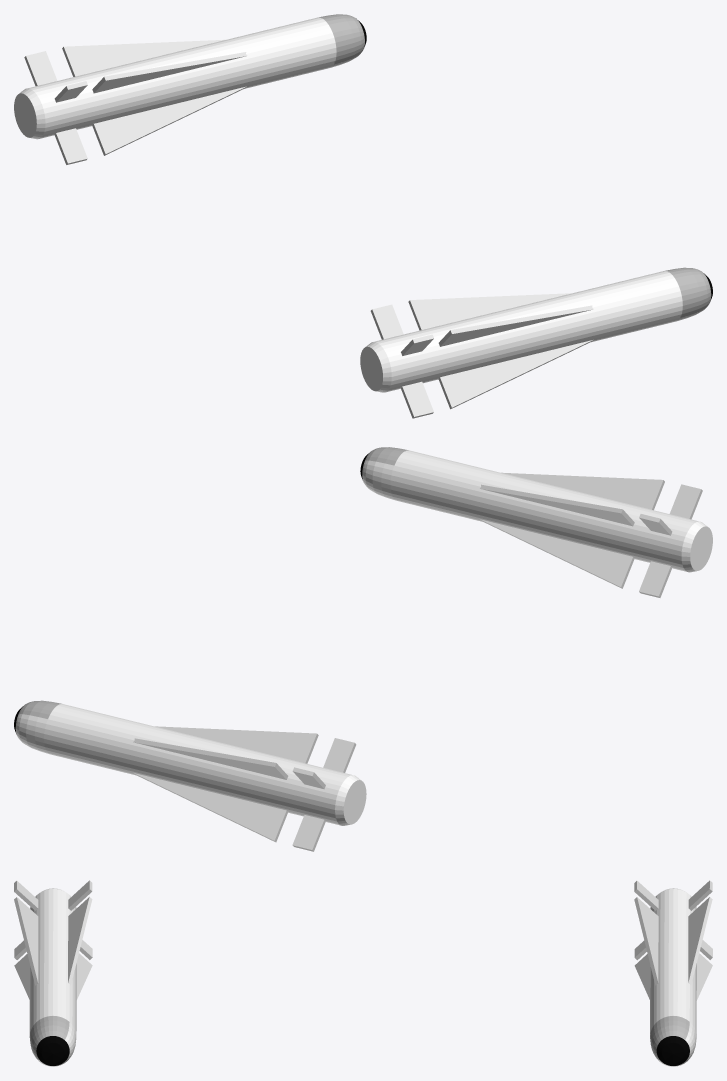
Rendered from f5fagm6523.glb.
3 views of the same model, one above another, from view 1: azimuth 30°, elevation 25°; view 2: azimuth 150°, elevation 25°; view 3: azimuth 270°, elevation 25° (orthographic). The views are drawn at different scales.
Visible parts, largest first — view 1: 立方体.003, 立方体.029; view 2: 立方体.029, 立方体.003; view 3: 立方体.029, 立方体.003.
Boxes of the visible parts, x1=… form: 立方体.003: x1=14, y1=14, x2=366, y2=164; 立方体.029: x1=360, y1=267, x2=712, y2=418; 立方体.029: x1=360, y1=447, x2=712, y2=597; 立方体.003: x1=14, y1=700, x2=366, y2=851; 立方体.029: x1=14, y1=880, x2=92, y2=1066; 立方体.003: x1=634, y1=880, x2=712, y2=1066.
Bounding box in the file's own units: 2.51 × 0.5697 × 5.05.
Materials: 1 (1 with a texture image).
